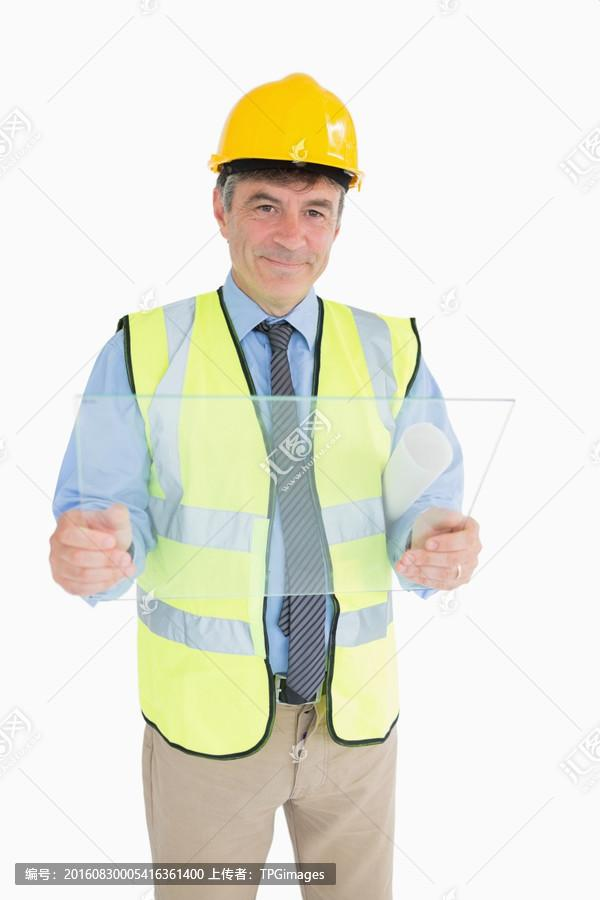helmet: (212, 67, 365, 182)
